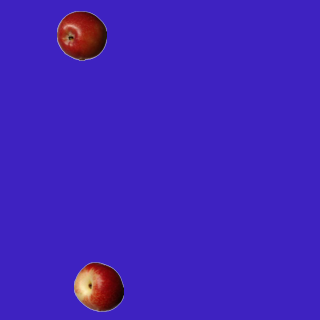Apple Braeburn: (56, 10, 106, 60)
Nectarine: (73, 261, 123, 311)
